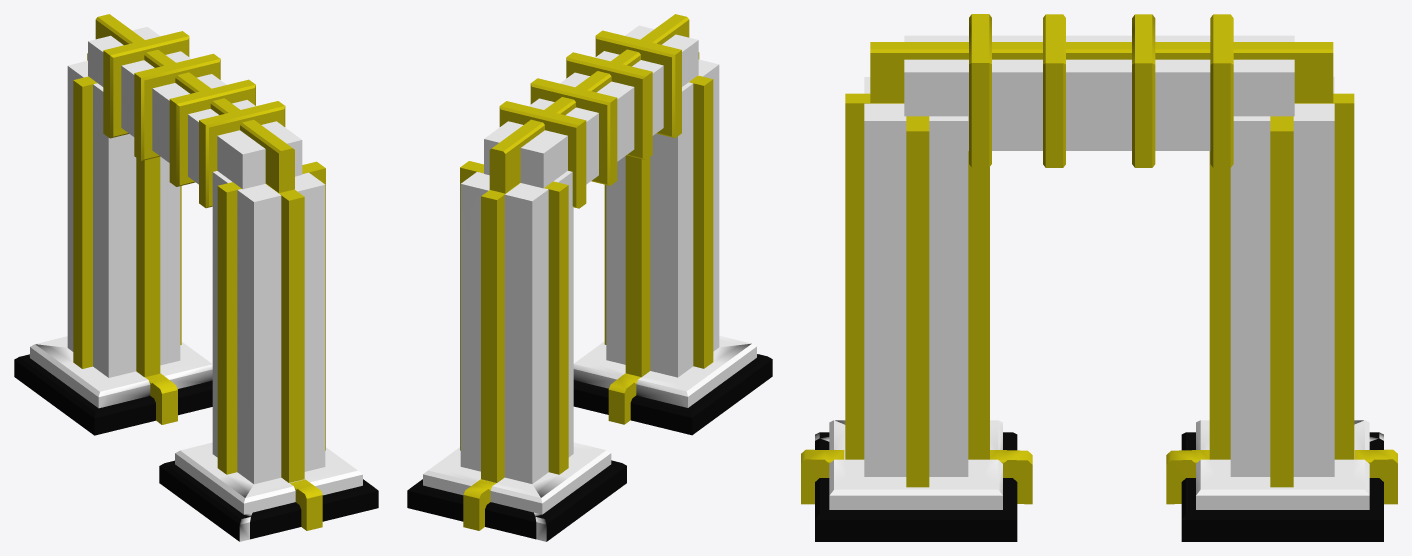
Rendered from brdge gate.fbx.
3 views of the same model, side by side, from view 1: azimuth 30°, elevation 25°; view 2: azimuth 150°, elevation 25°; view 3: azimuth 270°, elevation 25° (orthographic). The views are drawn at different scales.
Parts seen in each view (by area): view 1: arche_habillee; view 2: arche_habillee; view 3: arche_habillee.
Boxes of the visible parts, <box> form: arche_habillee: <box>14,14,378,541</box>; arche_habillee: <box>407,14,772,541</box>; arche_habillee: <box>801,14,1397,541</box>.
Size of the model in its own units: 17.2 by 43.09 by 50.68.
